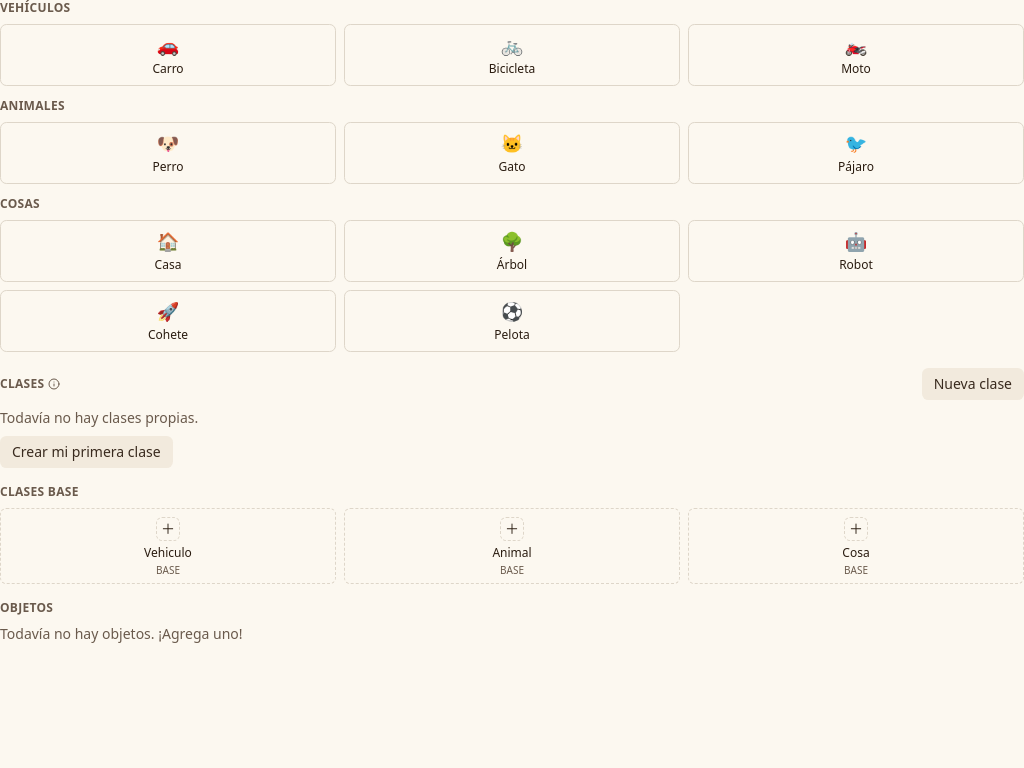
FactoryView › creates a class from the editor
Click the button "Nueva clase": (973,384) [922,368,1023,400]
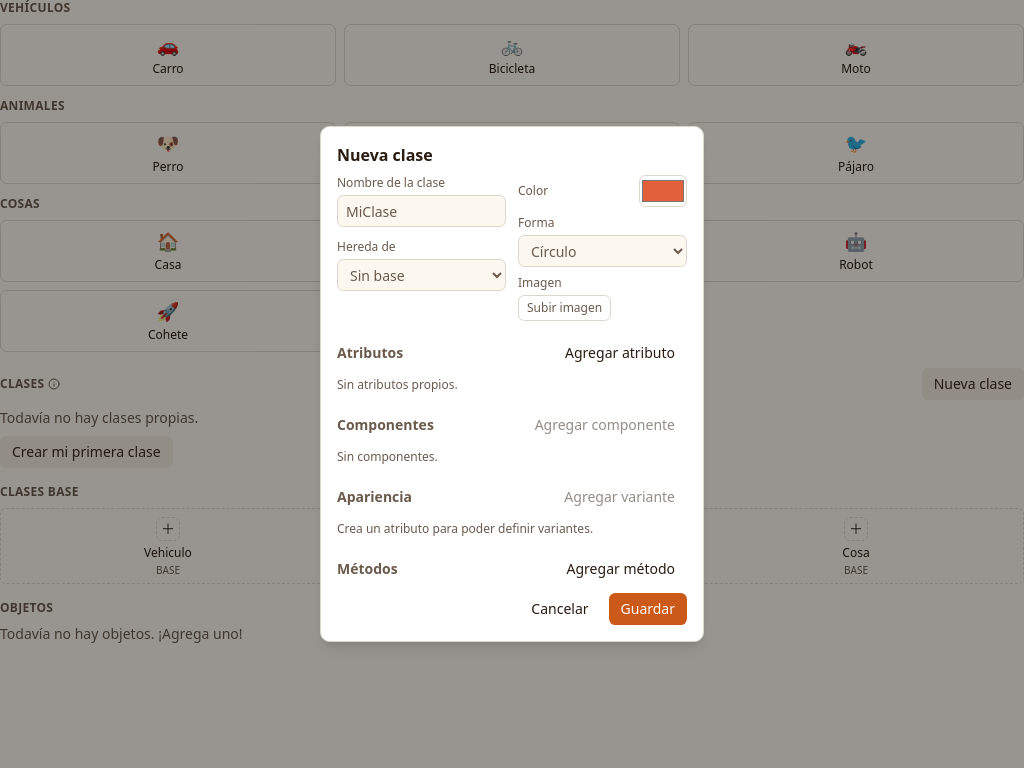
Clear the field showing "MiClase": (422,211) [337,195,506,227]
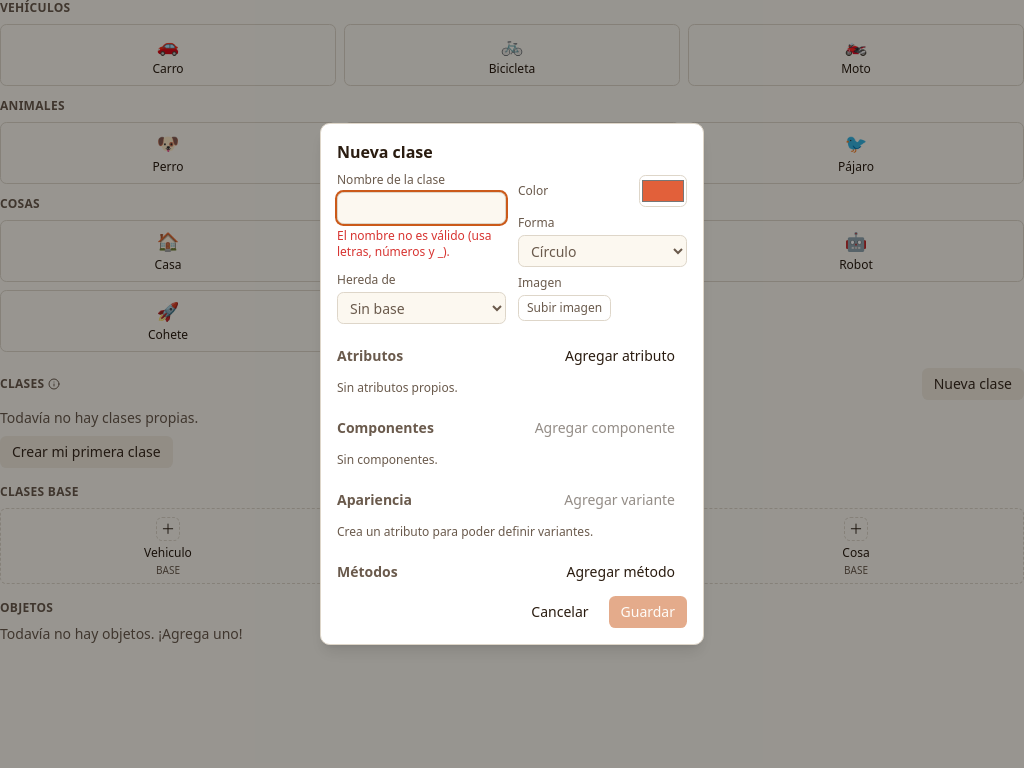
In the field showing "MiClase": (422,208) [337,192,506,224], type "Heroe"
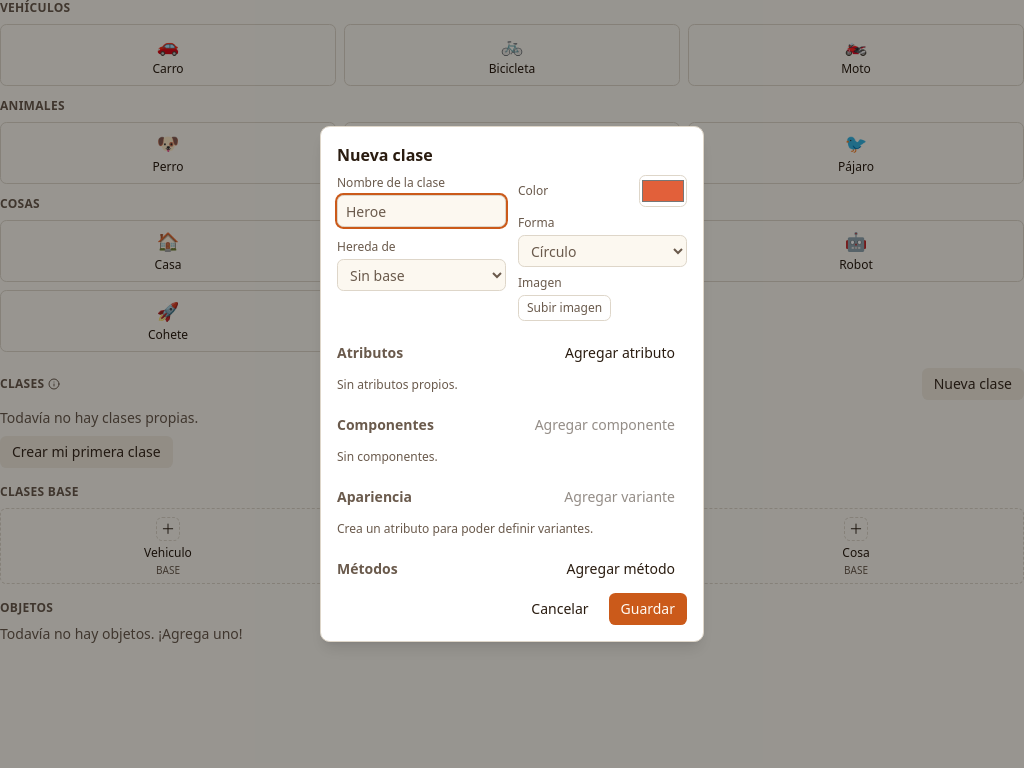
Click the button "Guardar": (648,609) [608,593,687,625]
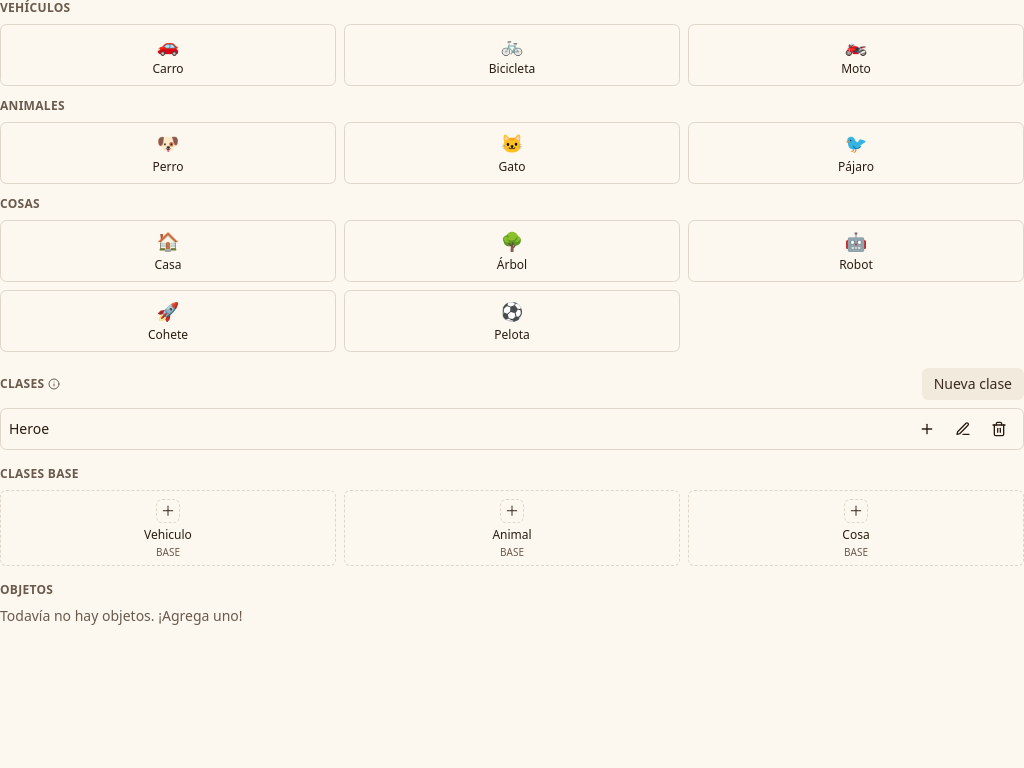
Check: the text "Heroe" is shown, box [9,419,49,438]
